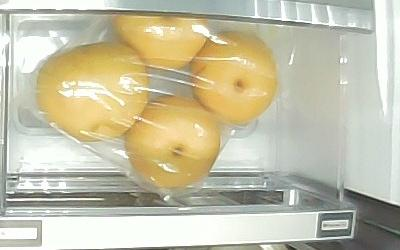pear_vinyl: (38, 42, 148, 144), (124, 94, 222, 190), (189, 31, 278, 124), (111, 14, 208, 70)
